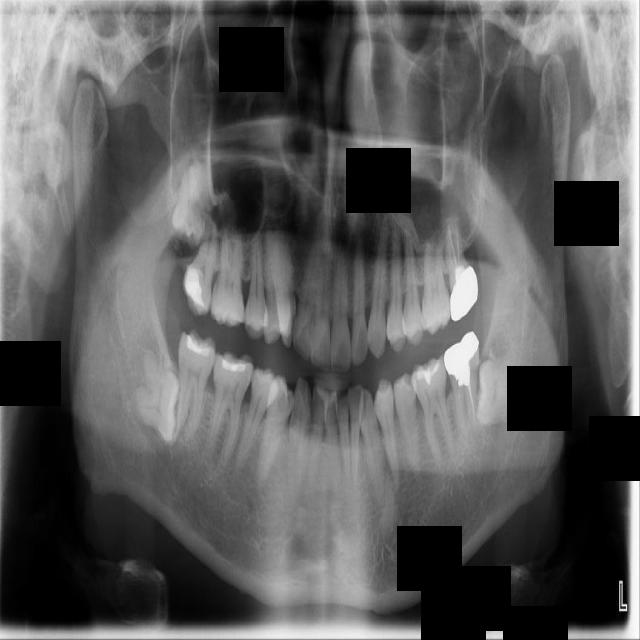3M ESPE Implant: (168, 157, 212, 250)
52: (431, 328, 492, 387), (167, 325, 222, 382), (405, 352, 460, 407), (206, 348, 258, 402), (178, 258, 215, 318), (446, 264, 480, 323)
73: (440, 209, 471, 287), (450, 371, 478, 442), (600, 586, 606, 595)
BioHorizons Implant: (441, 209, 481, 322)
Biomet 3i Implant: (472, 359, 518, 426)
Blue Sky Bio Implant: (440, 330, 481, 442)
Caries: (179, 211, 220, 318)
Implant: (168, 327, 217, 446)
Keystone Dental Implant: (129, 352, 182, 443)
